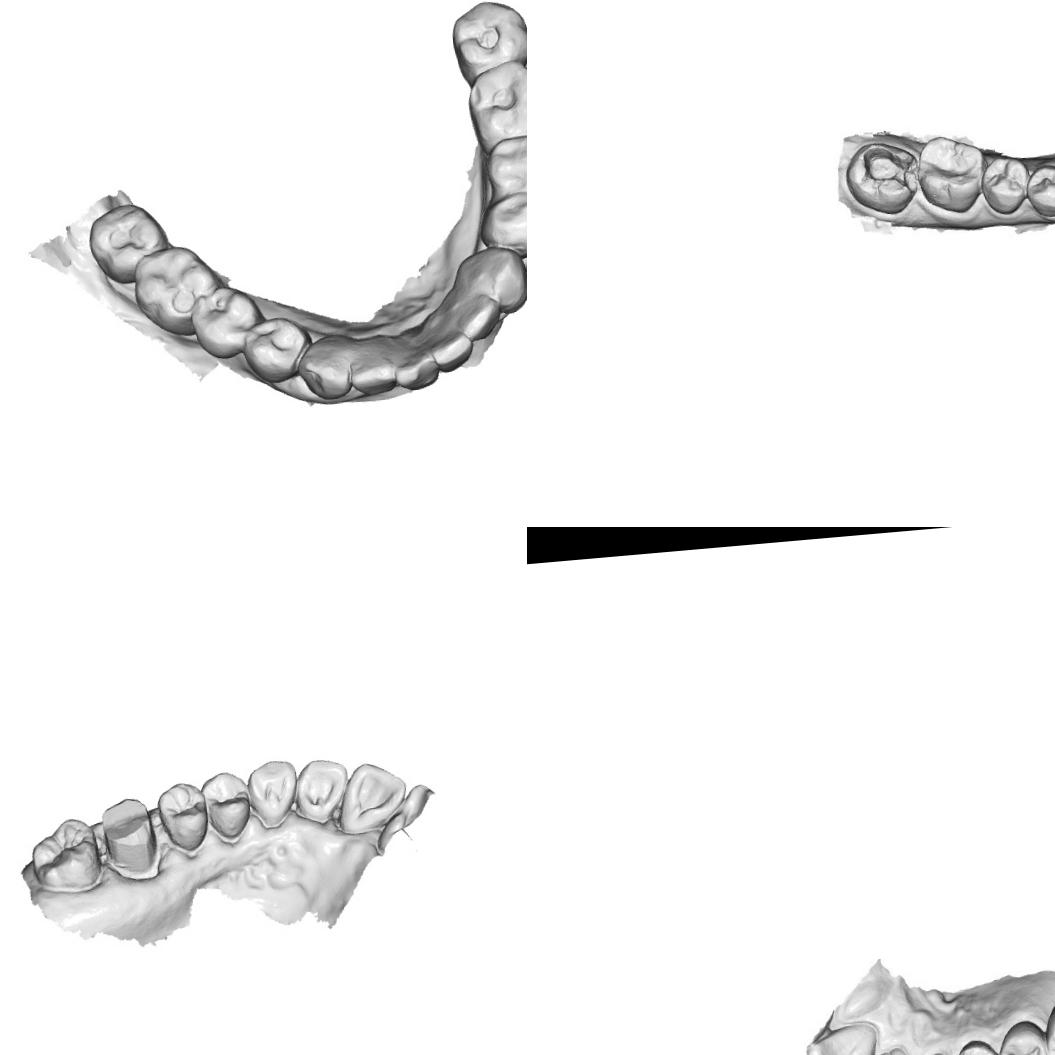canine: (458, 241, 527, 313), (243, 756, 301, 831), (294, 335, 352, 402)
crown: (96, 792, 164, 883)
incisor: (331, 759, 410, 836), (292, 756, 352, 826), (346, 344, 399, 402), (390, 341, 442, 393), (454, 291, 505, 344), (424, 322, 473, 371), (807, 1027, 875, 1055)
inlay: (853, 139, 919, 199)
molar: (132, 240, 223, 340), (85, 201, 168, 288), (444, 0, 527, 83), (26, 810, 104, 895), (459, 54, 527, 147), (909, 132, 985, 214)
premolar: (189, 282, 261, 362), (240, 313, 311, 384), (195, 768, 254, 845), (154, 779, 212, 855), (475, 190, 527, 261), (978, 152, 1031, 218), (486, 133, 527, 202), (996, 1016, 1051, 1055), (1023, 160, 1055, 220), (952, 1035, 999, 1055)
